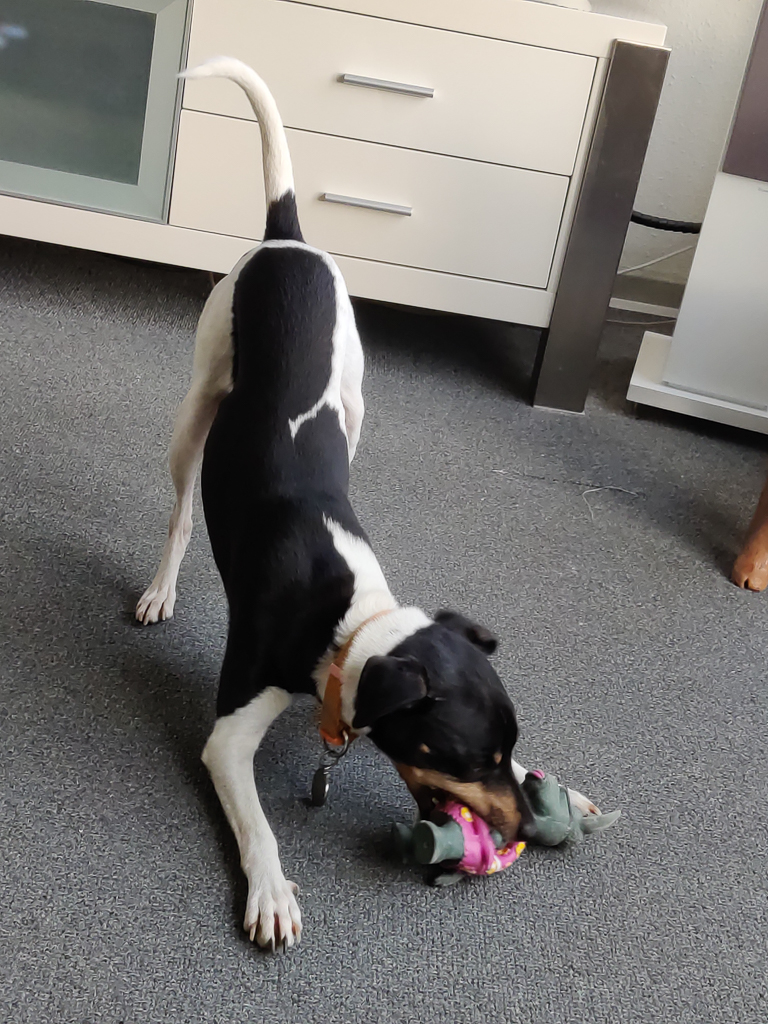Cattle: (704, 457, 768, 620)
Dog: (98, 39, 630, 971)
Humanoid: (350, 744, 627, 900)
